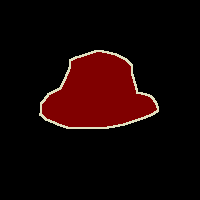hat: (40, 50, 158, 128)
